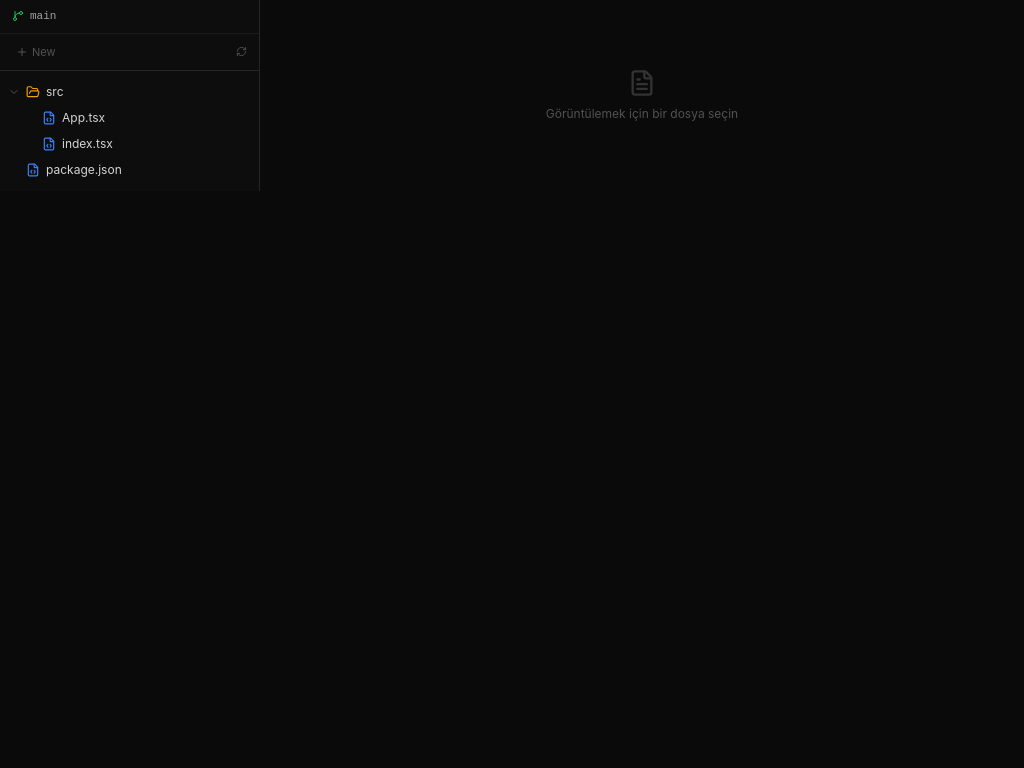
Test case: FileExplorer — yeni dosya olusturma › "İptal" butonuna tiklaninca modal kapanmali
The image size is (1024, 768).
Expected: the text "New" is shown, [32,44,56,60]
Step 1. Click the button "New" → (36, 52), box [8,40,64,64]
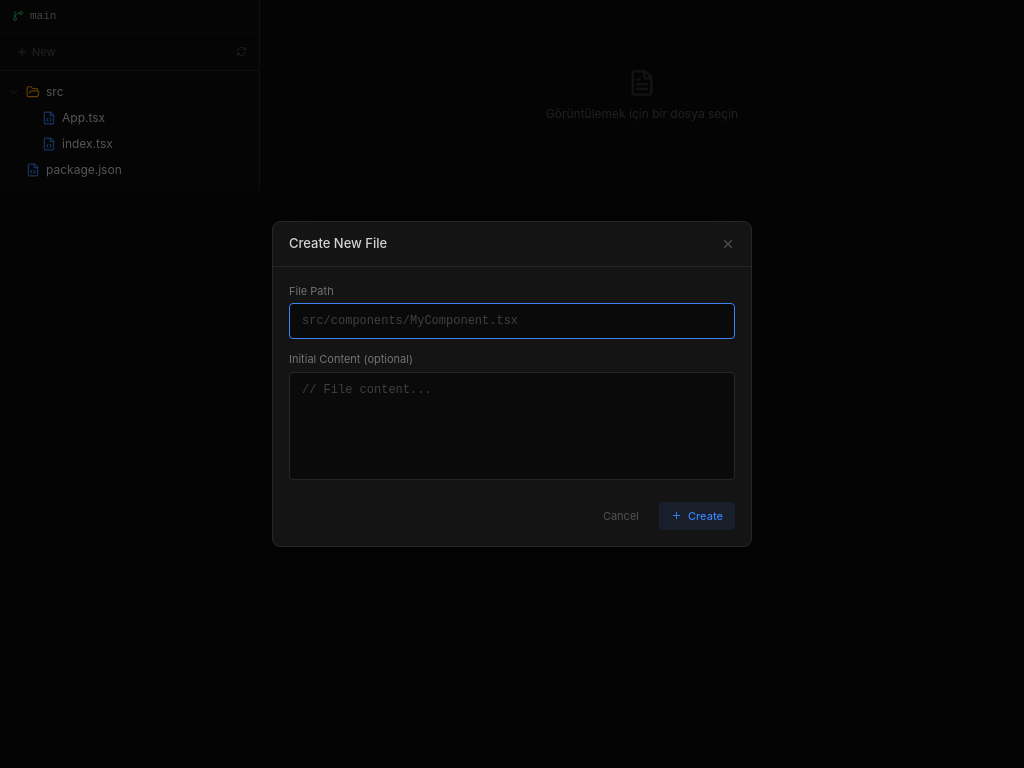
Expected: the text "Create New File" is shown, [289,234,387,254]
Step 2. Click the button "Cancel" → (621, 516), box [591,502,651,530]
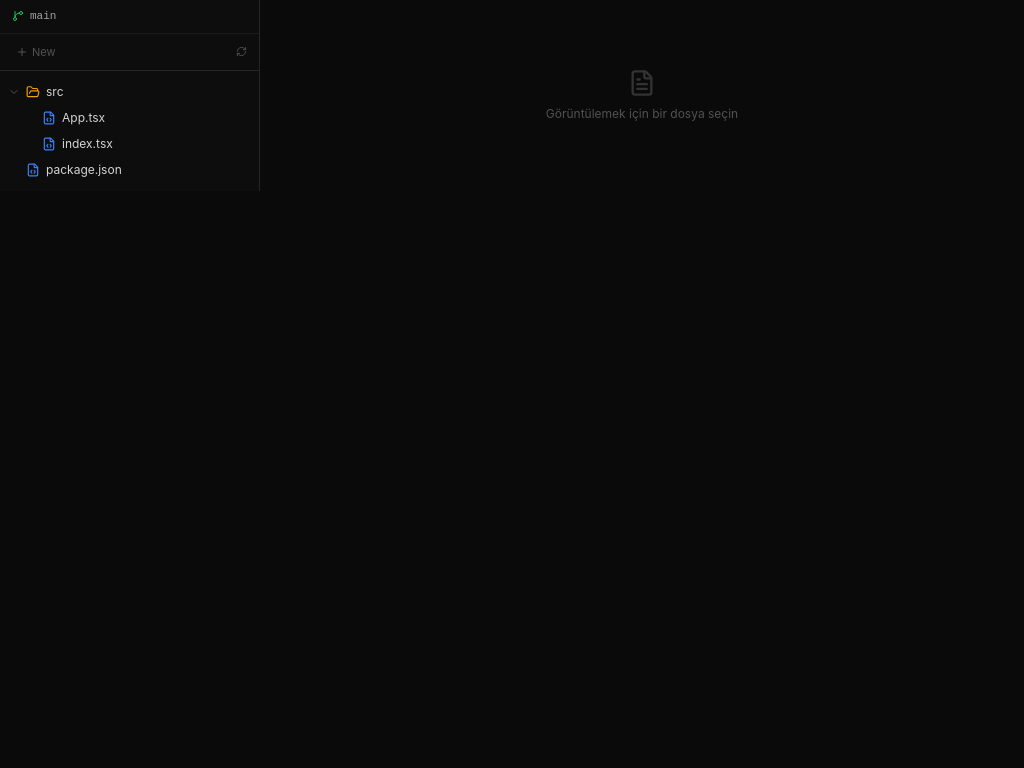
Expected: the text "Create New File" is gone
